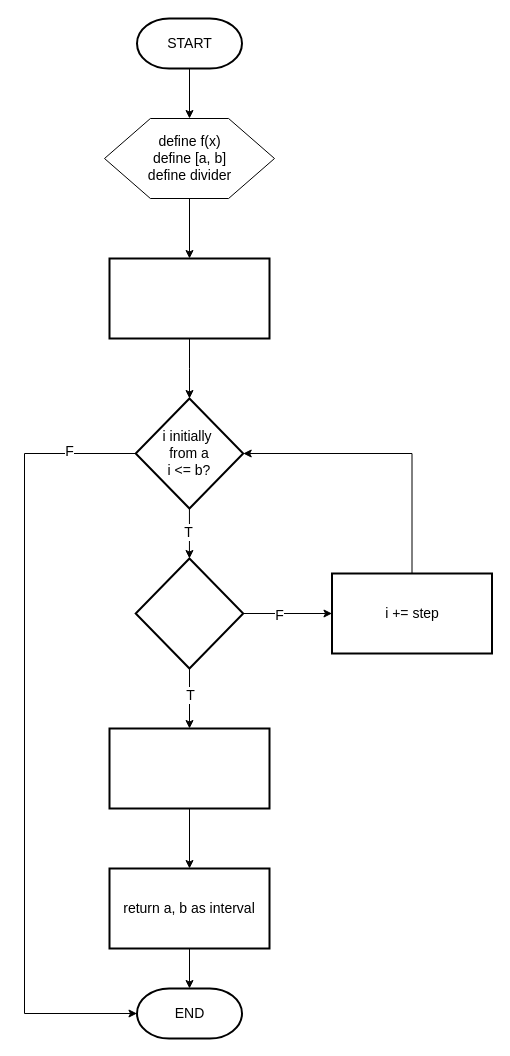
Some shapes in this 510 by 1056 pixel diagram are drawn without their labels. The shapes that lost their labels are listed below. From the top down, each one's centre as x and y in pixels, then its label:
At point (189, 298): "step = (b + a) / divider".
At point (189, 613): "f(i) * f(i + 1) < 0?".
At point (189, 768): "a = i, b = i + 1".
